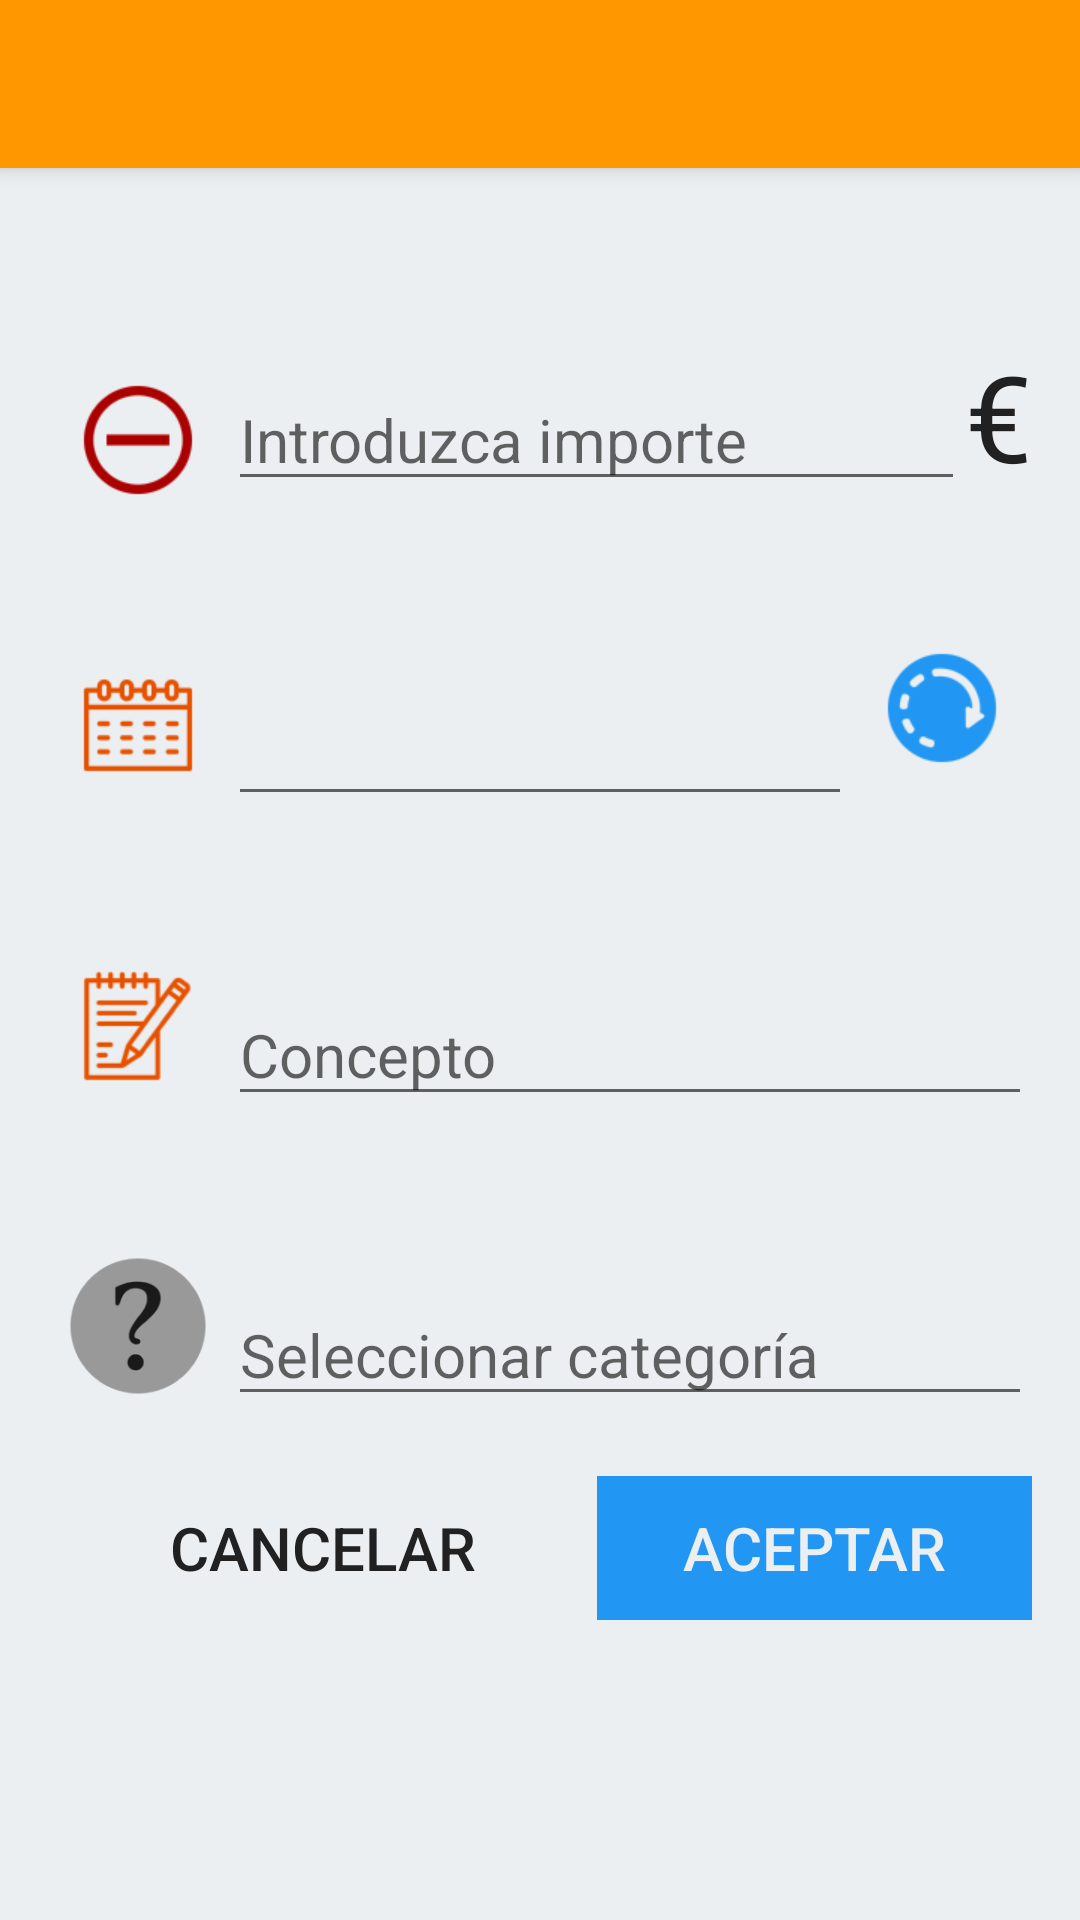

Icon bounding boxes for this 1080w x 1920h phone screenshot, format [x1, y1, x2, y2]:
calendario: [83, 679, 193, 772]
interrogante: [70, 1258, 206, 1394]
nota: [83, 971, 191, 1081]
recur: [887, 653, 997, 763]
toggle gasto: [83, 385, 193, 495]
